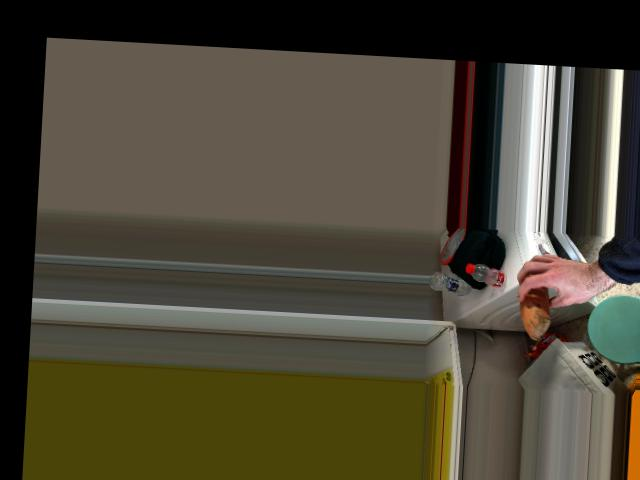sweet_potato: (521, 276, 559, 324)
